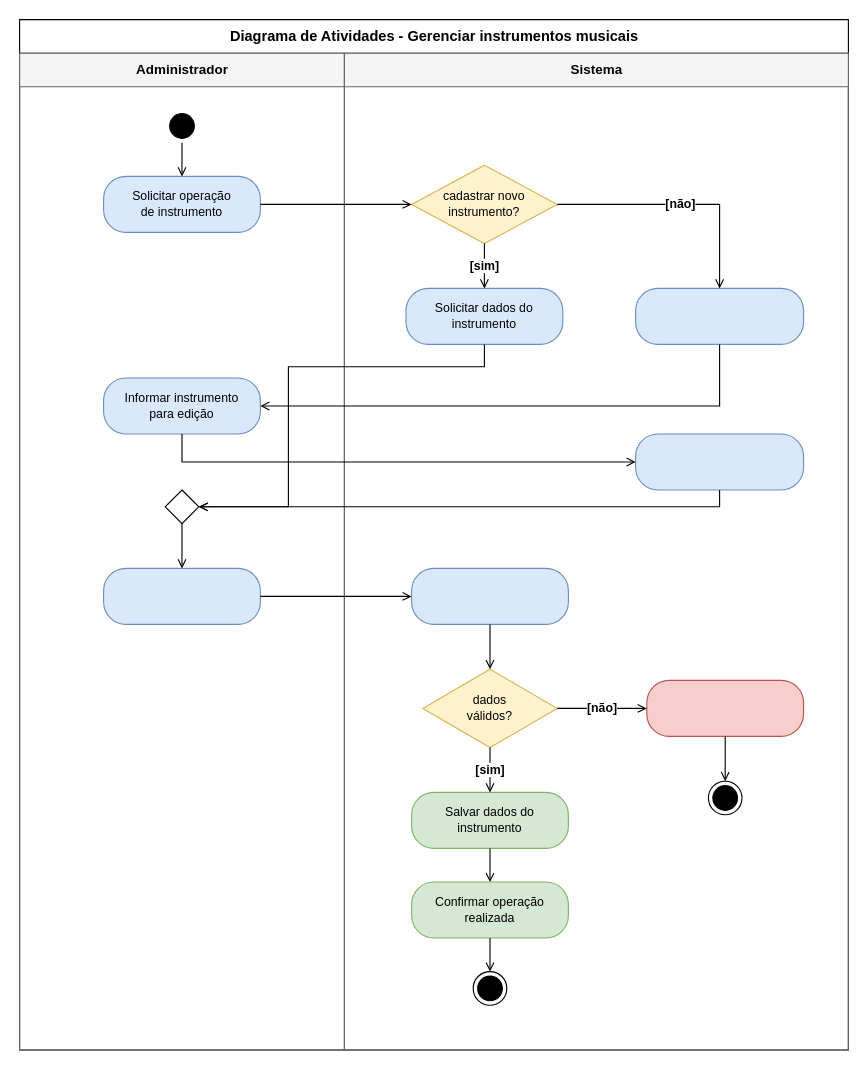
Image size: 868x1070. Some labels were removed from this diagram. The centre of each missing label's shape, as x and y in pixels:
"Exibir dados atuais do instrumento" belongs at [719,461].
"Informar dados do instrumento" belongs at [181,595].
"Informar erro nos dados" belongs at [725,707].
"Solicitar identificação do instrumento" belongs at [719,315].
"Verificar dados do instrumento" belongs at [489,595].
